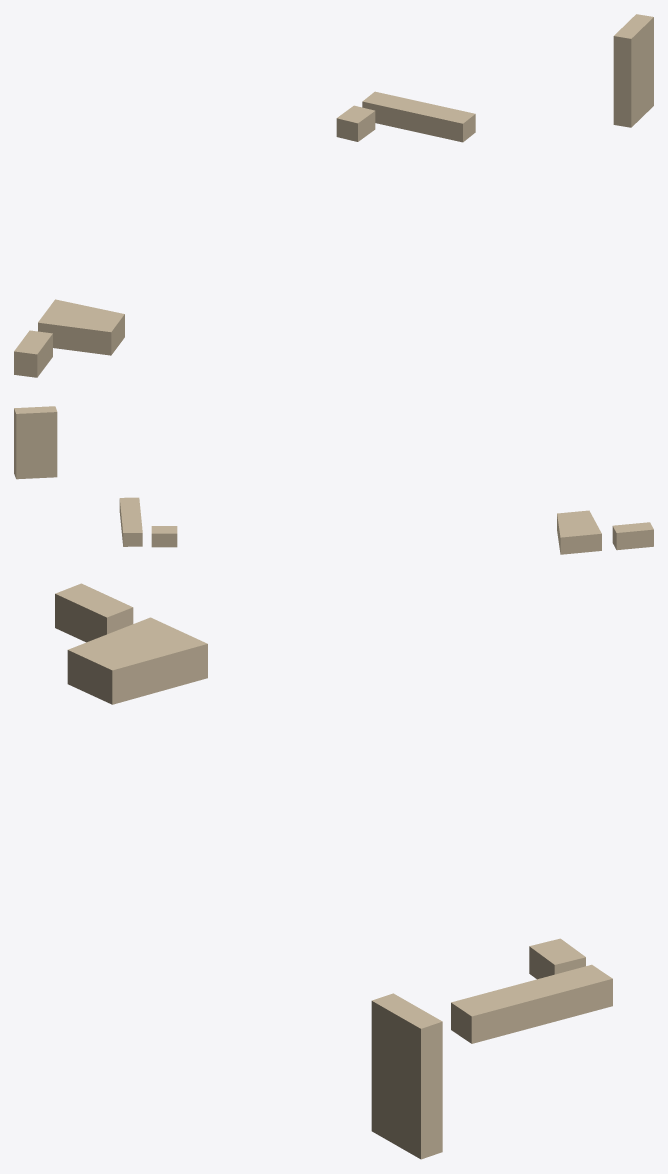
Rendered from -13_2-estimated-coarse.glb.
The picture shows the model from 3 angles, top to bottom: view 1: azimuth 30°, elevation 25°; view 2: azimuth 150°, elevation 25°; view 3: azimuth 270°, elevation 25°; orthographic projection. The views are drawn at different scales.
Size of the model in its own units: 507 by 57 by 221.
